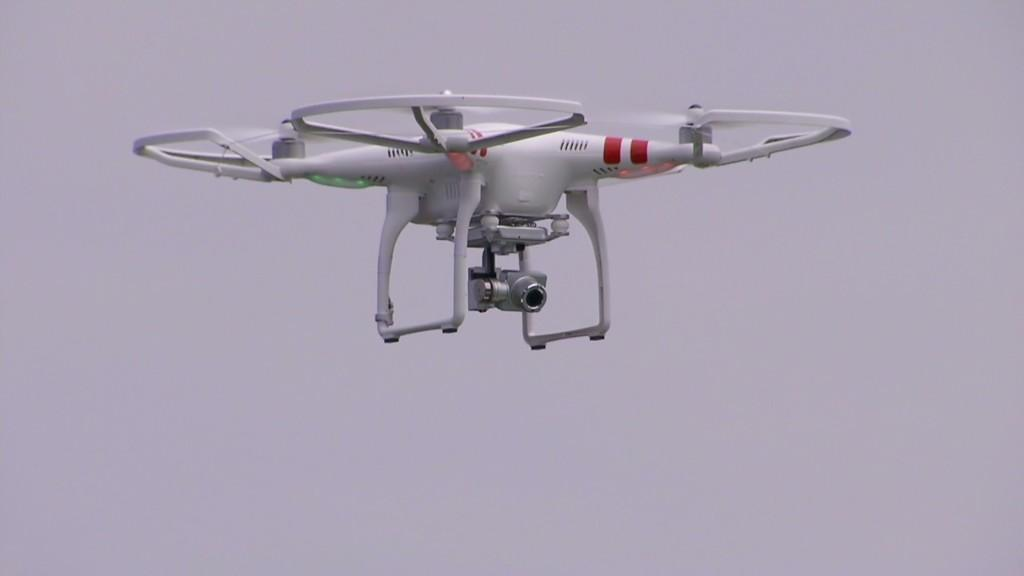UAV: (748, 108, 1024, 576)
